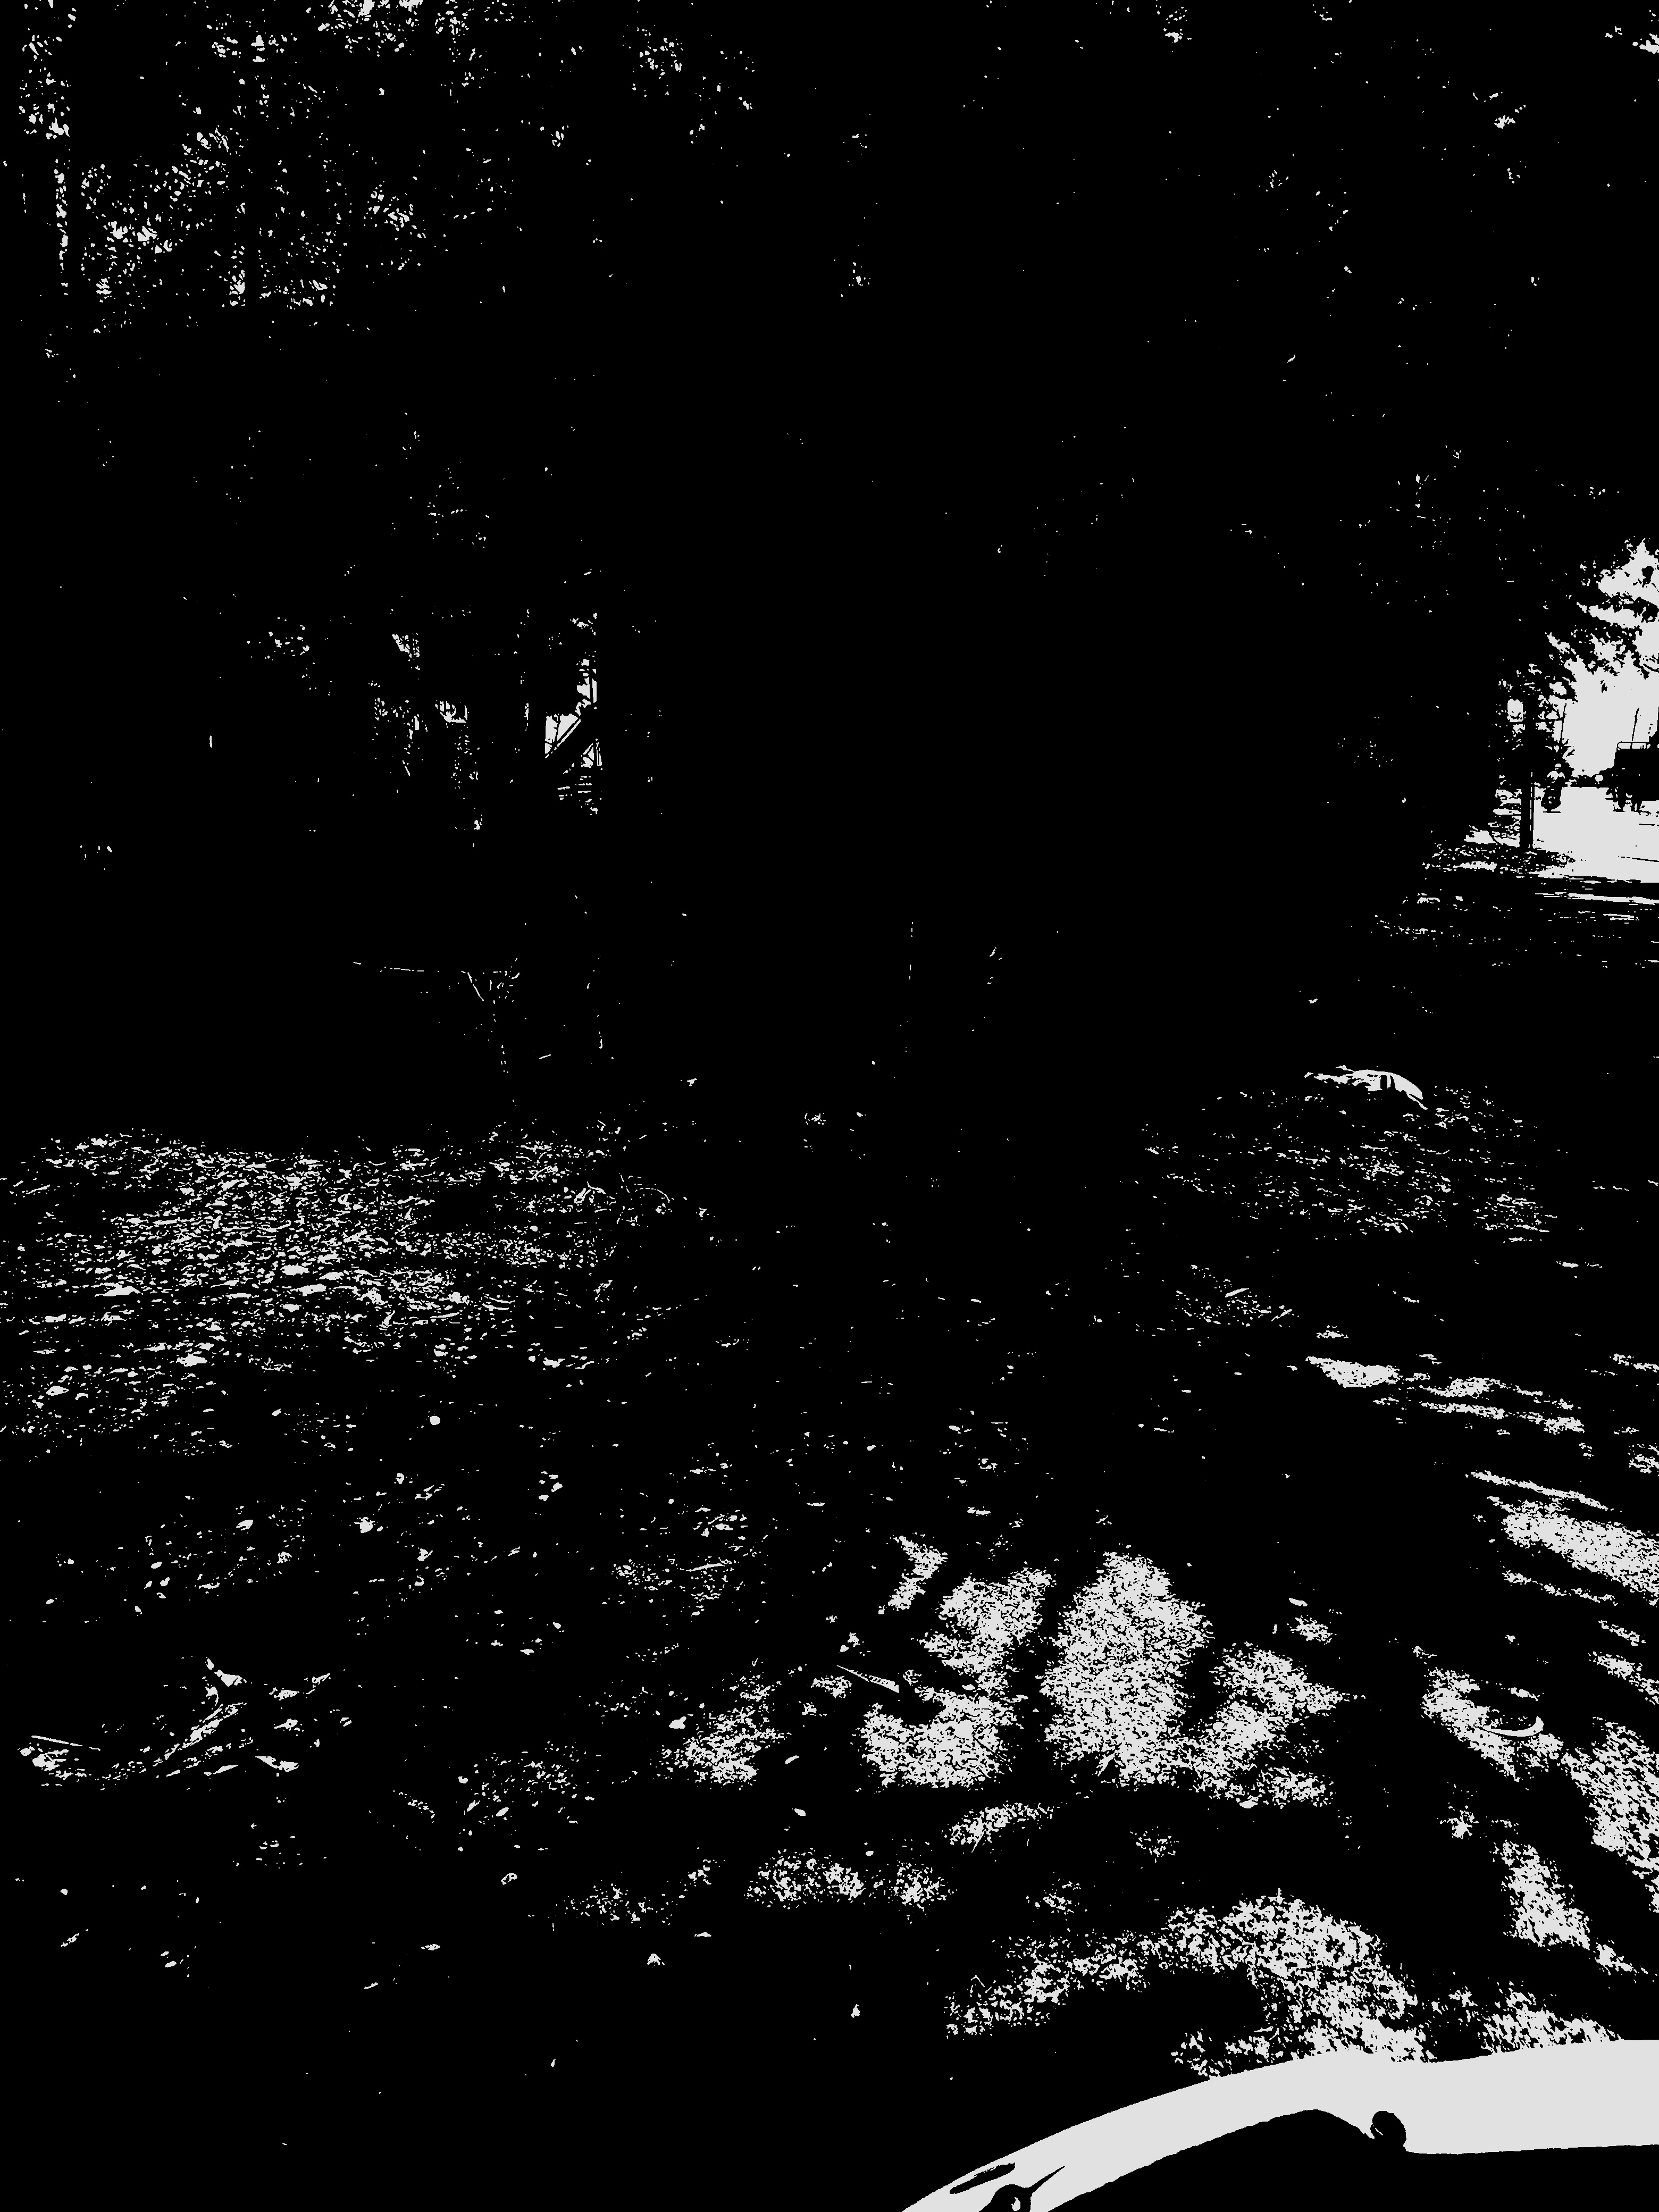text: (655, 536, 936, 921)
